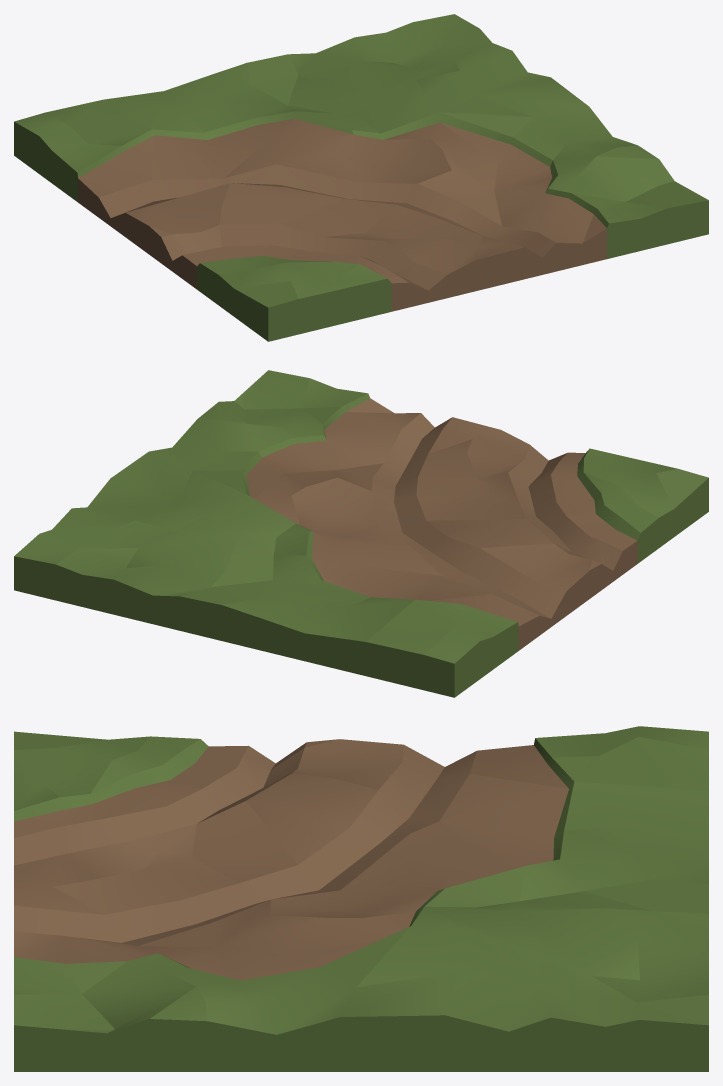
The model's file is Ground_Road_Turn_RU.glb.
3 views of the same model, one above another, from view 1: azimuth 30°, elevation 25°; view 2: azimuth 150°, elevation 25°; view 3: azimuth 270°, elevation 25° (orthographic). The views are drawn at different scales.
Parts seen in each view (by area): view 1: Ground_Road_Turn_RU; view 2: Ground_Road_Turn_RU; view 3: Ground_Road_Turn_RU.
Part boxes in pixels (left/top/right/bottom): Ground_Road_Turn_RU: left=14, top=14, right=708, bottom=341; Ground_Road_Turn_RU: left=14, top=370, right=708, bottom=697; Ground_Road_Turn_RU: left=14, top=726, right=708, bottom=1071.
Bounding box in the file's own units: 1.47 × 0.1505 × 1.47.
